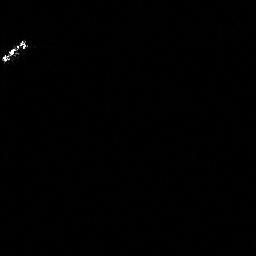ship: (1, 38, 28, 63)
